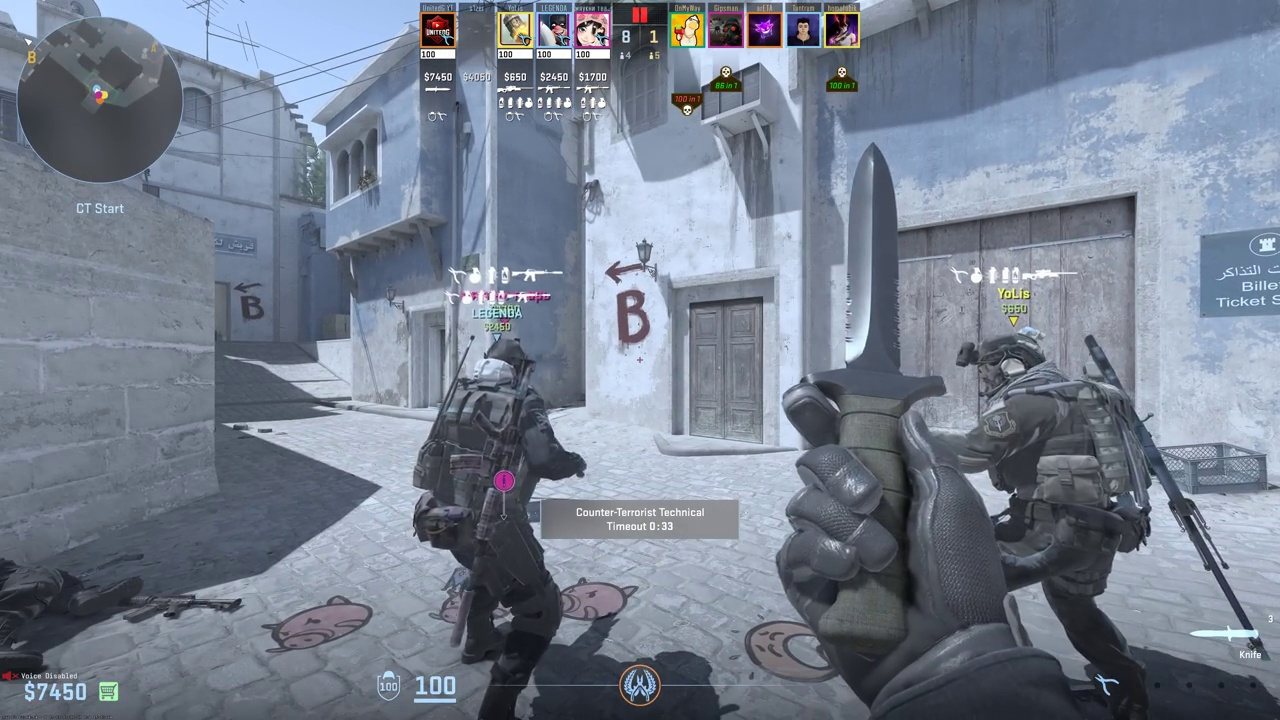CT: (966, 334, 1149, 716), (423, 339, 566, 719)
